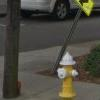Hydrant: (51, 47, 86, 100)
